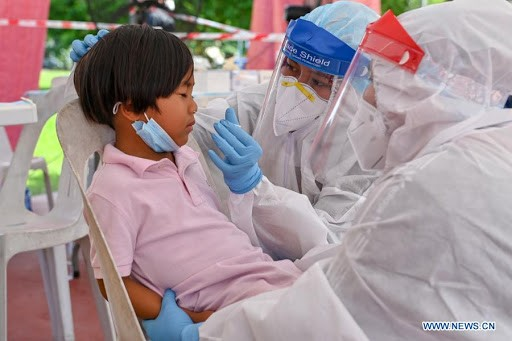Face_Shield: (303, 8, 438, 183), (254, 35, 365, 164)
Gloves: (204, 103, 267, 194), (137, 287, 200, 341)
mask_weared_incorrect: (135, 77, 198, 159)
with_mask: (347, 64, 392, 177), (269, 62, 332, 141)
